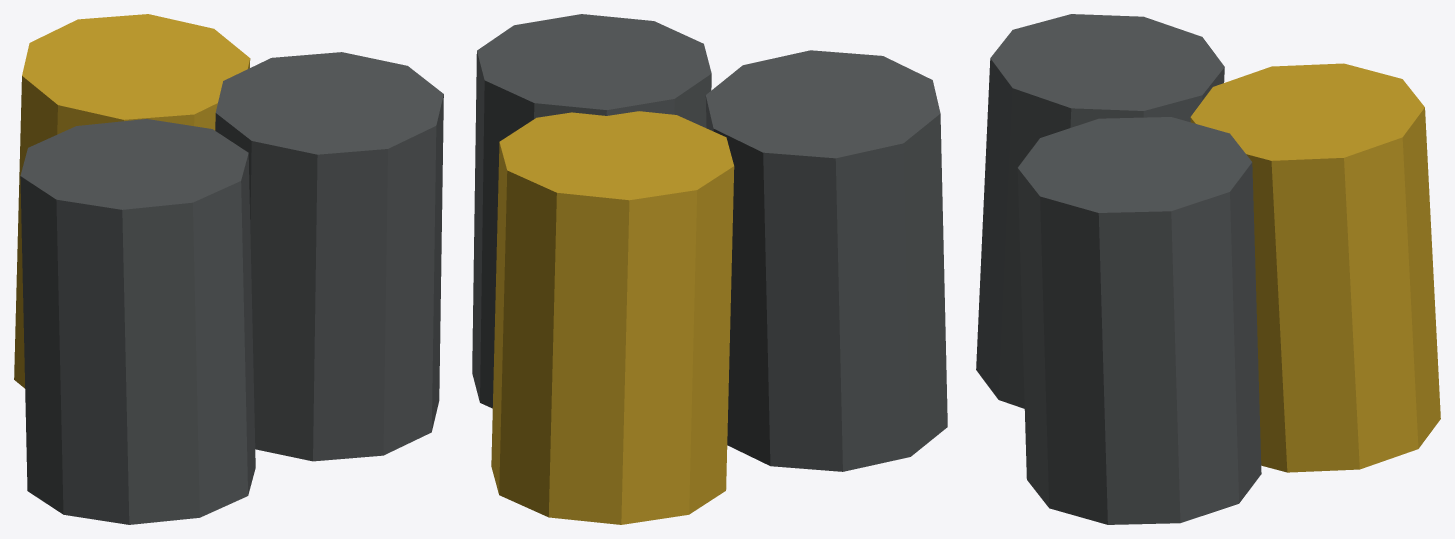
The model's file is Drums_Cluster.fbx.
3 views of the same model, side by side, from view 1: azimuth 30°, elevation 25°; view 2: azimuth 150°, elevation 25°; view 3: azimuth 270°, elevation 25° (orthographic). The views are drawn at different scales.
Parts seen in each view (by area): view 1: Drums_Cluster; view 2: Drums_Cluster; view 3: Drums_Cluster.
Part boxes in pixels (x1,y1,x2,y2): Drums_Cluster: (14, 14, 443, 524); Drums_Cluster: (472, 14, 947, 524); Drums_Cluster: (976, 14, 1440, 524).
Bounding box in the file's own units: 1.19 × 0.9067 × 1.19.
